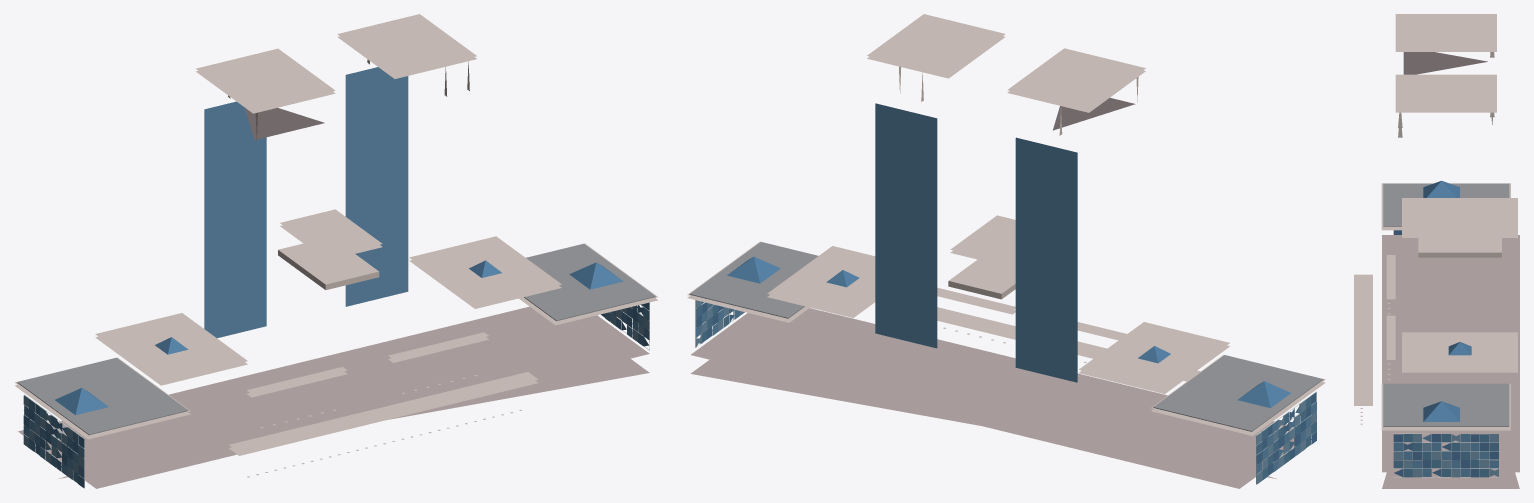
File: buildings-27-far.glb
The picture shows the model from 3 angles, left to right: view 1: azimuth 30°, elevation 25°; view 2: azimuth 150°, elevation 25°; view 3: azimuth 270°, elevation 25°; orthographic projection. The views are drawn at different scales.
Visible parts, largest first — view 1: 光华楼 · Guanghua light stone edges.001, 光华楼 · Guanghua rose grey stone.001, 光华楼 · Guanghua blue glazing 1.001, 光华楼 · Guanghua roof.001, 光华楼 · Guanghua blue glazing 0.001, 光华楼 · Guanghua recessed bronze.001, 光华楼 · Guanghua blue glazing 2.001, 光华楼 · Guanghua blue glazing 3.001; view 2: 光华楼 · Guanghua rose grey stone.001, 光华楼 · Guanghua blue glazing 1.001, 光华楼 · Guanghua light stone edges.001, 光华楼 · Guanghua roof.001, 光华楼 · Guanghua blue glazing 0.001, 光华楼 · Guanghua blue glazing 2.001, 光华楼 · Guanghua blue glazing 3.001, 光华楼 · Guanghua recessed bronze.001; view 3: 光华楼 · Guanghua light stone edges.001, 光华楼 · Guanghua rose grey stone.001, 光华楼 · Guanghua roof.001, 光华楼 · Guanghua blue glazing 0.001, 光华楼 · Guanghua blue glazing 3.001, 光华楼 · Guanghua recessed bronze.001, 光华楼 · Guanghua blue glazing 2.001, 光华楼 · Guanghua blue glazing 1.001, 光华楼 · Guanghua curtain wall mullions.001.
Part boxes in pixels (box(x1,y1,x2,y2)): 光华楼 · Guanghua light stone edges.001: box(15, 14, 657, 455); 光华楼 · Guanghua rose grey stone.001: box(18, 306, 649, 488); 光华楼 · Guanghua blue glazing 1.001: box(23, 67, 649, 475); 光华楼 · Guanghua roof.001: box(17, 243, 655, 435); 光华楼 · Guanghua blue glazing 0.001: box(23, 260, 649, 487); 光华楼 · Guanghua recessed bronze.001: box(245, 107, 324, 139); 光华楼 · Guanghua blue glazing 2.001: box(23, 306, 649, 479); 光华楼 · Guanghua blue glazing 3.001: box(24, 304, 649, 483); 光华楼 · Guanghua rose grey stone.001: box(690, 308, 1315, 488); 光华楼 · Guanghua blue glazing 1.001: box(696, 103, 1316, 474); 光华楼 · Guanghua light stone edges.001: box(687, 14, 1325, 435); 光华楼 · Guanghua roof.001: box(689, 242, 1323, 431); 光华楼 · Guanghua blue glazing 0.001: box(696, 256, 1316, 475); 光华楼 · Guanghua blue glazing 2.001: box(696, 300, 1316, 483); 光华楼 · Guanghua blue glazing 3.001: box(696, 301, 1316, 479); 光华楼 · Guanghua recessed bronze.001: box(1053, 98, 1135, 130); 光华楼 · Guanghua light stone edges.001: box(1354, 14, 1517, 430); 光华楼 · Guanghua rose grey stone.001: box(1382, 235, 1519, 488); 光华楼 · Guanghua roof.001: box(1383, 183, 1509, 426); 光华楼 · Guanghua blue glazing 0.001: box(1393, 180, 1498, 477); 光华楼 · Guanghua blue glazing 3.001: box(1393, 434, 1498, 477); 光华楼 · Guanghua recessed bronze.001: box(1403, 52, 1487, 74); 光华楼 · Guanghua blue glazing 2.001: box(1393, 434, 1498, 477); 光华楼 · Guanghua blue glazing 1.001: box(1393, 434, 1498, 476); 光华楼 · Guanghua curtain wall mullions.001: box(1393, 433, 1498, 477).
Bounding box in the file's own units: 126 × 73.95 × 36.05.
